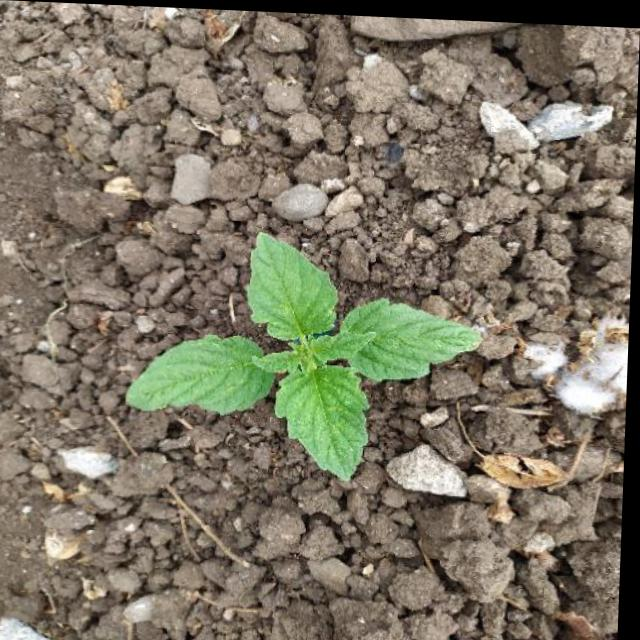crop: (118, 226, 485, 481)
